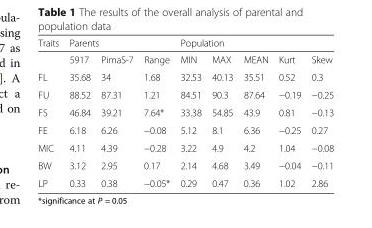table: (37, 36, 333, 188)
table column: (95, 36, 137, 188), (137, 36, 174, 188), (237, 36, 272, 188), (272, 36, 305, 188), (63, 36, 95, 188), (174, 36, 206, 188), (206, 36, 237, 188), (305, 36, 333, 188), (37, 36, 63, 188)
table column header: (37, 36, 333, 67)
table row: (37, 67, 333, 85), (37, 85, 333, 103), (37, 120, 333, 138), (37, 138, 333, 156), (37, 50, 333, 67), (37, 103, 333, 120), (37, 156, 333, 173), (37, 173, 333, 188), (37, 36, 333, 50)
table spanning cell: (174, 36, 333, 50), (63, 36, 174, 50), (37, 36, 63, 67)
